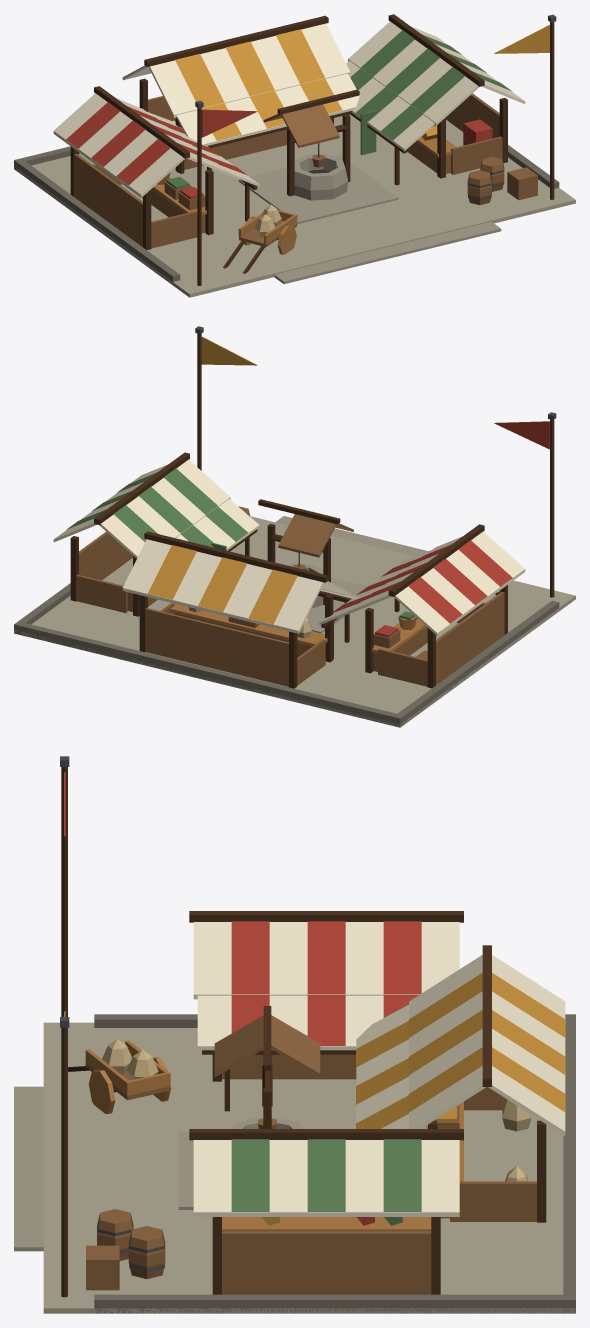
Rendered from era1-market-DV8DNbT8.glb.
3 views of the same model, one above another, from view 1: azimuth 30°, elevation 25°; view 2: azimuth 150°, elevation 25°; view 3: azimuth 270°, elevation 25° (orthographic). The views are drawn at different scales.
Parts seen in each view (by area): view 1: Market_Flags, Market_StallA_Roof, Market_StallB_Roof, Market_StallC_Roof, Market_CourtStone, Market_StallB_WallB, Market_StallA_Awning, Market_FrontStep, Market_KerbL, Market_WellRing, Market_StallC_Awning, Market_WellRoof (+44 smaller); view 2: Market_Flags, Market_StallA_Roof, Market_StallA_WallB, Market_KerbBack, Market_StallB_Roof, Market_StallC_Roof, Market_StallB_WallB, Market_KerbL, Market_WellRoof, Market_StallC_WallB, Market_StallA_Ridge, Market_StallA_StripeB3 (+30 smaller); view 3: Market_Flags, Market_StallC_WallB, Market_StallC_Roof, Market_StallA_Roof, Market_StallB_Roof, Market_KerbR, Market_FrontStep, Market_StallB_Awning, Market_KerbBack, Market_WellRoof, Market_StallA_WallR, Market_StallA_Awning (+34 smaller).
Part boxes in pixels (x1,y1,x2,y2): Market_Flags: (14, 114, 575, 297); Market_StallA_Roof: (122, 23, 350, 117); Market_StallB_Roof: (53, 93, 230, 197); Market_StallC_Roof: (348, 21, 525, 125); Market_CourtStone: (238, 155, 398, 224); Market_StallB_WallB: (74, 153, 142, 246); Market_StallA_Awning: (176, 73, 359, 145); Market_FrontStep: (274, 221, 501, 283); Market_KerbL: (14, 160, 180, 281); Market_WellRing: (294, 154, 348, 200); Market_StallC_Awning: (346, 61, 434, 151); Market_WellRoof: (263, 104, 339, 147); Market_Flags: (14, 516, 575, 727); Market_StallA_Roof: (122, 539, 350, 633); Market_StallA_WallB: (145, 608, 288, 686); Market_KerbBack: (14, 621, 404, 726); Market_StallB_Roof: (348, 531, 525, 635); Market_StallC_Roof: (53, 459, 230, 558); Market_StallB_WallB: (436, 592, 504, 685); Market_KerbL: (393, 600, 559, 727); Market_WellRoof: (278, 514, 353, 557); Market_StallC_WallB: (79, 532, 132, 580); Market_StallA_Ridge: (144, 531, 328, 582); Market_StallA_StripeB3: (147, 545, 196, 599); Market_Flags: (43, 1022, 575, 1313); Market_StallC_WallB: (222, 1231, 431, 1294); Market_StallC_Roof: (193, 1140, 459, 1216); Market_StallA_Roof: (409, 955, 565, 1135); Market_StallB_Roof: (193, 922, 459, 999); Market_KerbR: (94, 1294, 575, 1313); Market_FrontStep: (14, 1086, 43, 1251); Market_StallB_Awning: (197, 995, 383, 1050); Market_KerbBack: (563, 1014, 575, 1313); Market_WellRoof: (214, 1015, 320, 1077); Market_StallA_WallR: (450, 1181, 536, 1221); Market_StallA_Awning: (356, 1004, 408, 1128).
Size of the model in its own units: 16 by 7.37 by 13.3.
